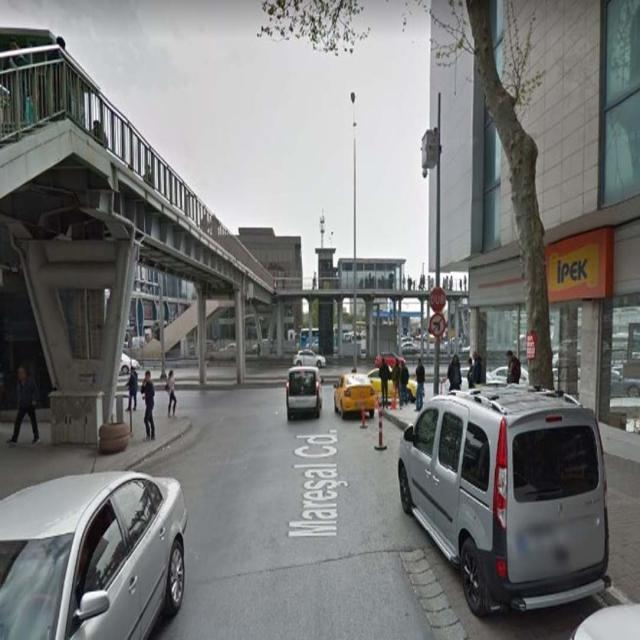dur: (428, 288, 446, 314)
soladonulmez: (429, 314, 446, 338)
